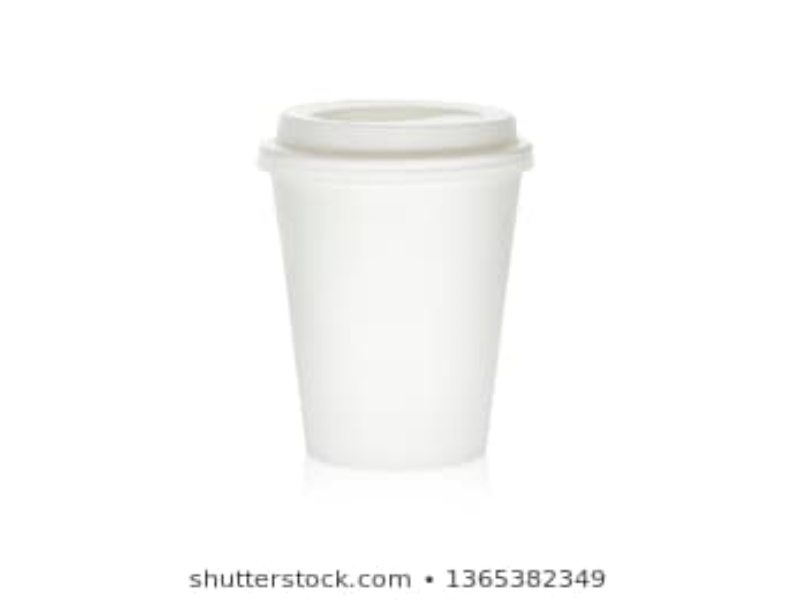coffee-lid: (250, 95, 538, 177)
plastic-cup: (253, 93, 537, 470)
